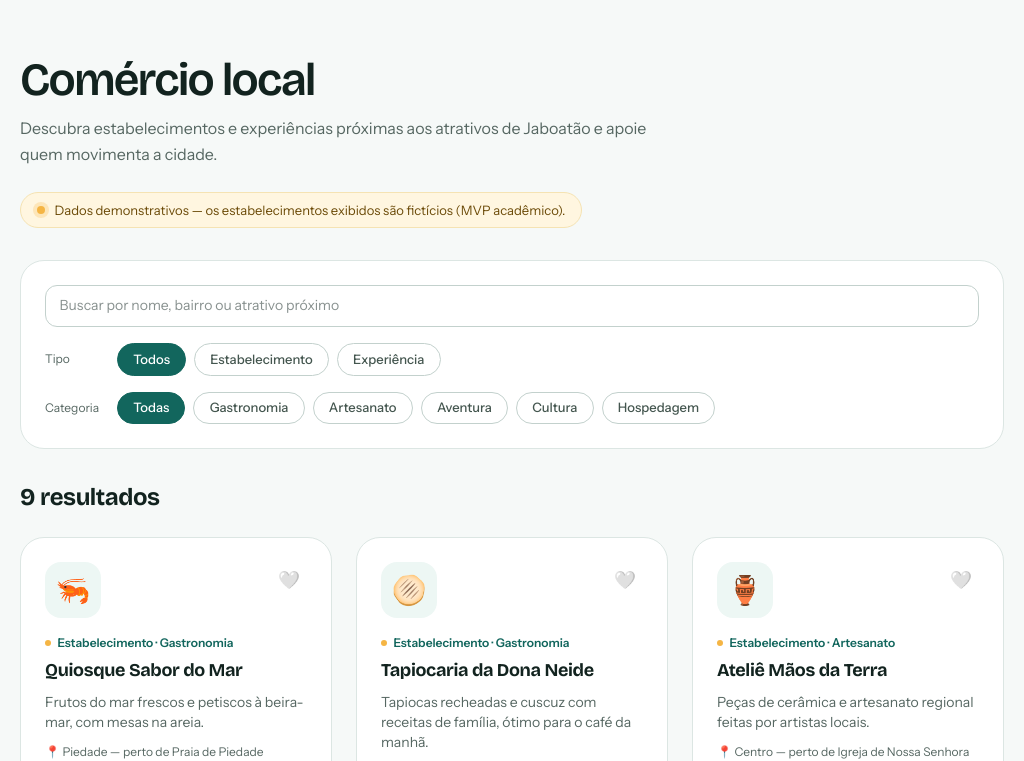
Test: Tela de Comércio local › filtra por tipo
The image size is (1024, 761).
Click the button "Experiência": coordinates (389, 359) [337,343,441,376]
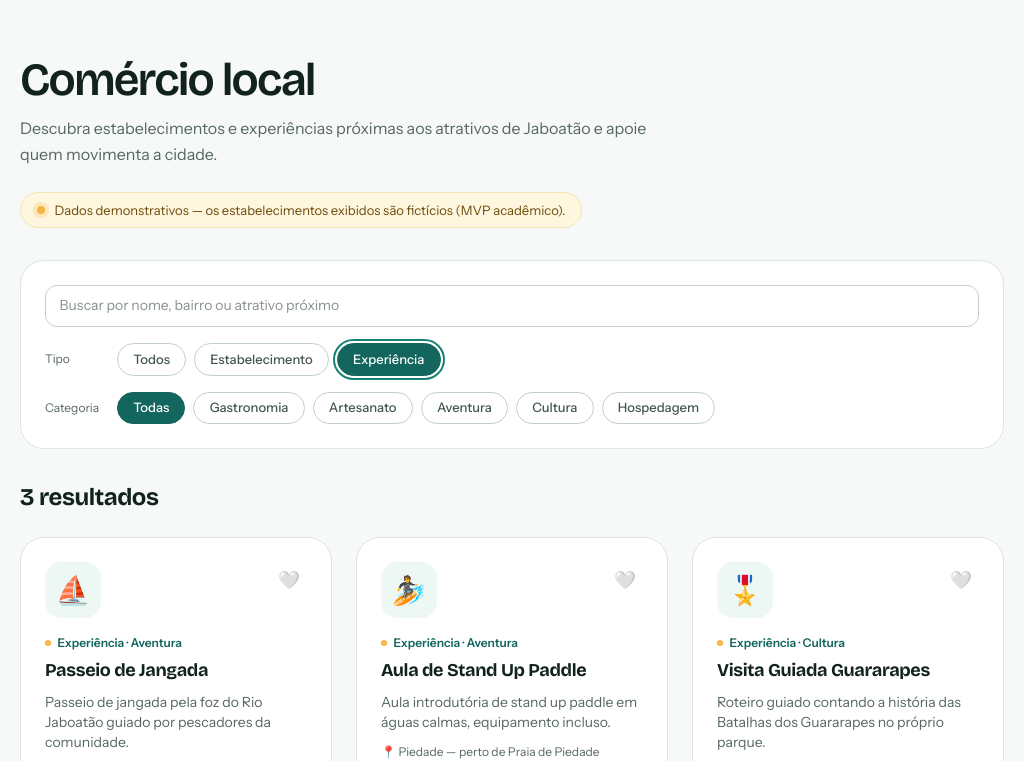
Expected: the heading "3 resultados" is shown, [20,483,158,511]
